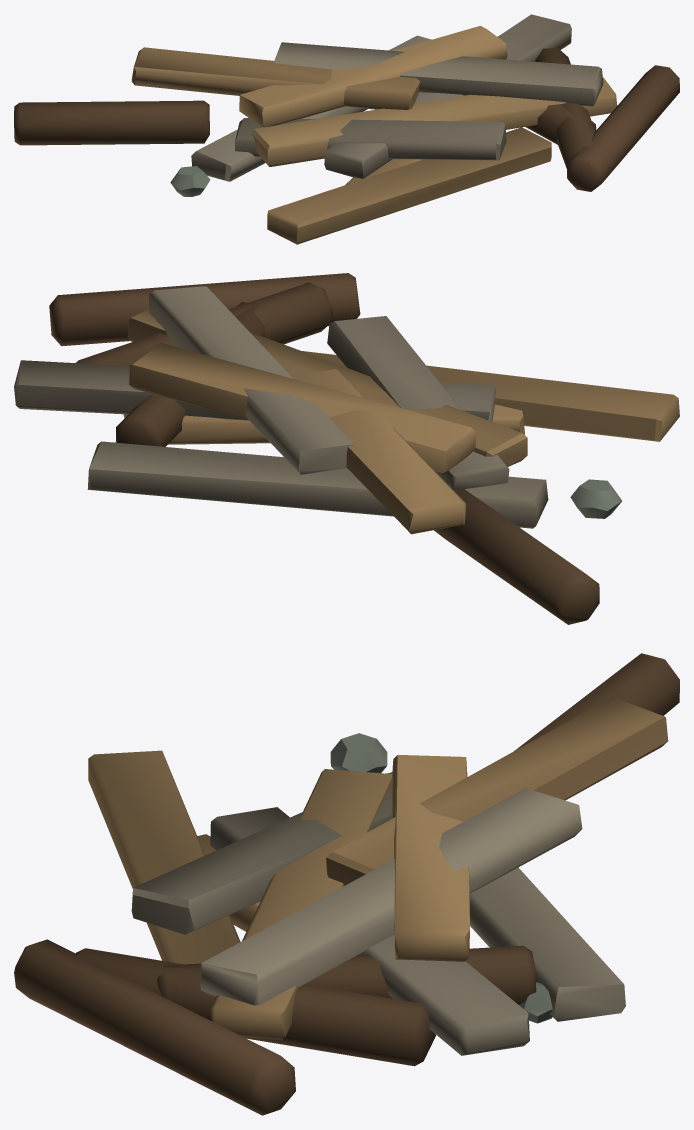
File: timber_lagging_b_lod1.glb
The picture shows the model from 3 angles, top to bottom: view 1: azimuth 30°, elevation 25°; view 2: azimuth 150°, elevation 25°; view 3: azimuth 270°, elevation 25°; orthographic projection. The views are drawn at different scales.
Parts seen in each view (by area): view 1: Surface.001; view 2: Surface.001; view 3: Surface.001.
Boxes of the visible parts, box(x1,y1,x2,y2) form: Surface.001: box(14, 14, 679, 244); Surface.001: box(14, 273, 679, 624); Surface.001: box(14, 653, 679, 1115).
Bounding box in the file's own units: 4.2 × 0.4913 × 2.81.
